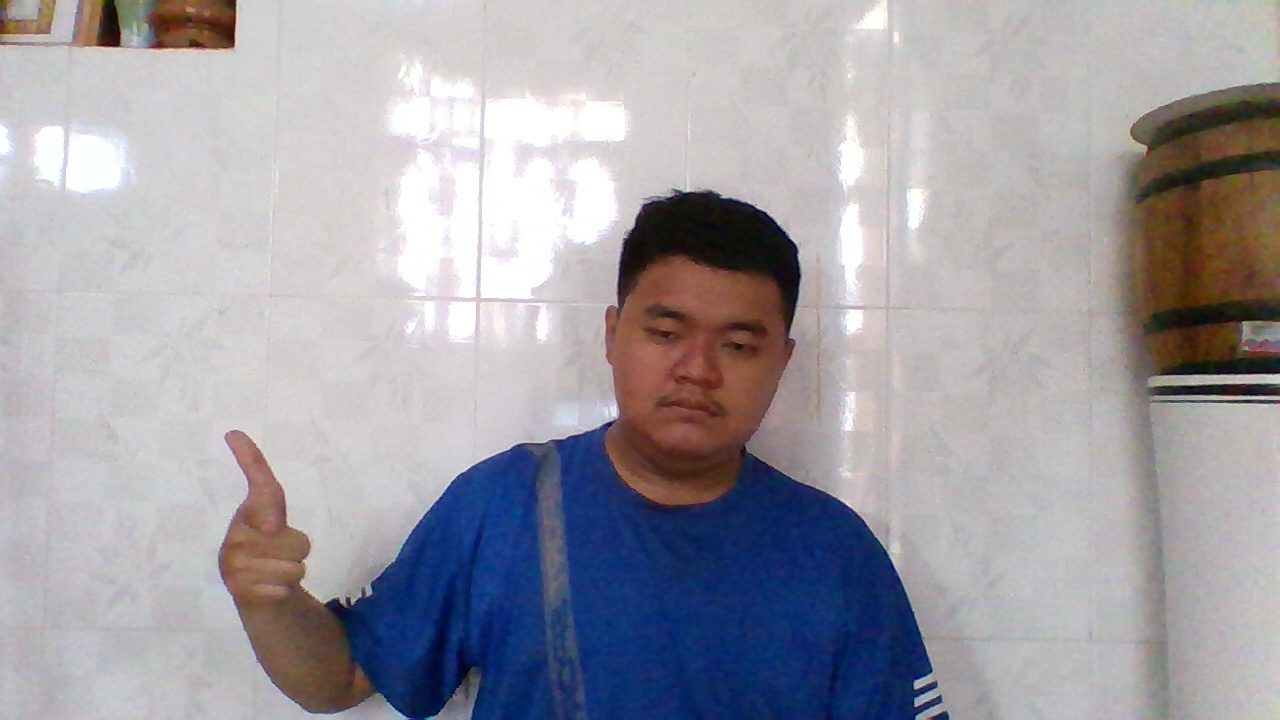G: (212, 419, 319, 613)
